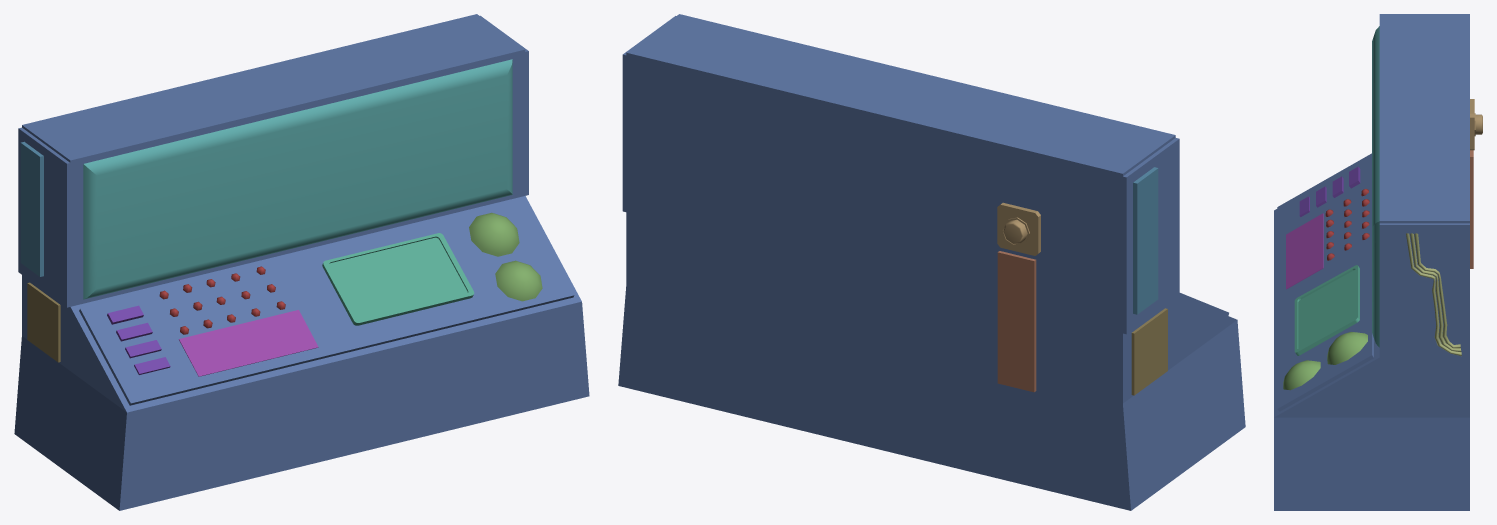
Rendered from ControlPanel_Artstyle_exp_low.fbx.
The picture shows the model from 3 angles, left to right: view 1: azimuth 30°, elevation 25°; view 2: azimuth 150°, elevation 25°; view 3: azimuth 270°, elevation 25°; orthographic projection. The views are drawn at different scales.
Visible parts, largest first — view 1: ControlPanelMesh, ContolPanel_SmallScreen, WarningSign_01, SideButtons, WarningSign_02, Speaker_01, Speaker_02; view 2: ControlPanelMesh, TheBackDetail, SideButtons, WarningSign_02, TheBackButton; view 3: ControlPanelMesh, ContolPanel_SmallScreen, WarningSign_01, SideTubes1, Speaker_01, Speaker_02, TheBackDetail, TheBackButton.
Part boxes in pixels (left/top/right/bottom): ControlPanelMesh: left=14, top=14, right=589, bottom=510; ContolPanel_SmallScreen: left=322, top=233, right=474, bottom=325; WarningSign_01: left=179, top=310, right=318, bottom=376; SideButtons: left=20, top=141, right=43, bottom=276; WarningSign_02: left=27, top=282, right=60, bottom=362; Speaker_01: left=469, top=212, right=519, bottom=256; Speaker_02: left=495, top=260, right=542, bottom=301; ControlPanelMesh: left=618, top=14, right=1245, bottom=510; TheBackDetail: left=997, top=251, right=1036, bottom=392; SideButtons: left=1133, top=167, right=1158, bottom=314; WarningSign_02: left=1131, top=308, right=1167, bottom=395; TheBackButton: left=997, top=202, right=1040, bottom=255; ControlPanelMesh: left=1274, top=14, right=1469, bottom=510; ContolPanel_SmallScreen: left=1294, top=265, right=1359, bottom=355; WarningSign_01: left=1286, top=213, right=1323, bottom=289; SideTubes1: left=1406, top=233, right=1461, bottom=356; Speaker_01: left=1327, top=331, right=1367, bottom=364; Speaker_02: left=1283, top=360, right=1320, bottom=390; TheBackDetail: left=1470, top=150, right=1473, bottom=268; TheBackButton: left=1470, top=99, right=1482, bottom=150.
Bounding box in the file's own units: 258 × 161 × 107.
